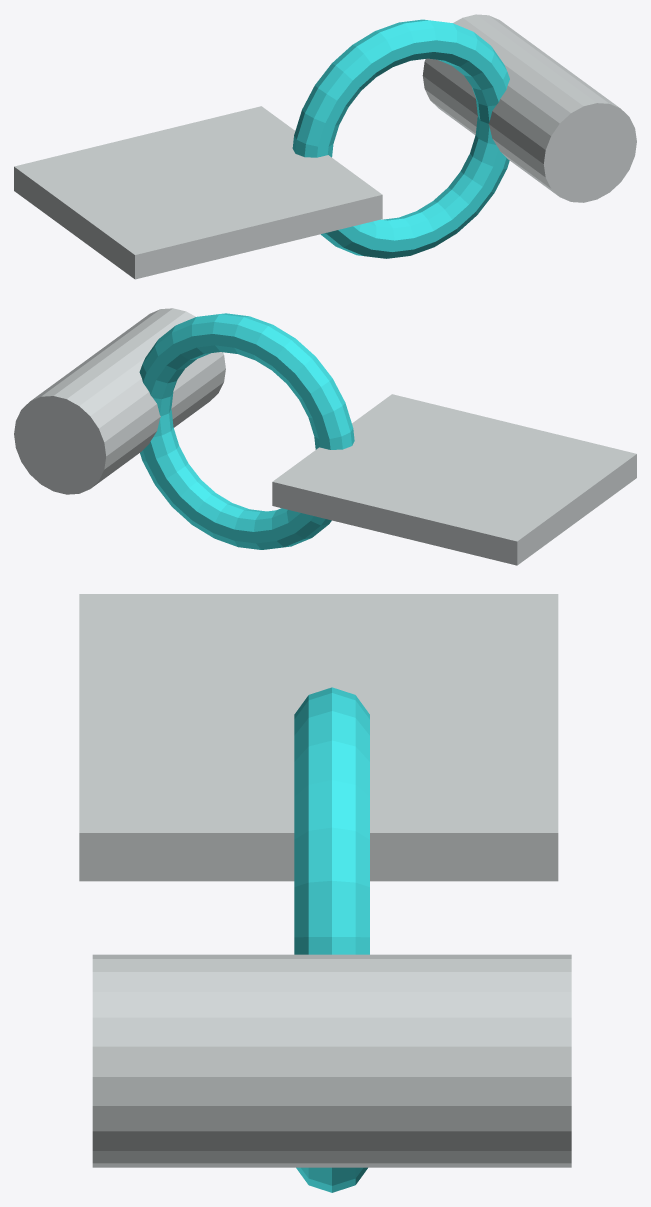
File: filter-set.glb
3 views of the same model, one above another, from view 1: azimuth 30°, elevation 25°; view 2: azimuth 150°, elevation 25°; view 3: azimuth 270°, elevation 25° (orthographic). The views are drawn at different scales.
Parts seen in each view (by area): view 1: world; view 2: world; view 3: world.
Boxes of the visible parts, bbox=[...] form: world: bbox=[14, 14, 636, 279]; world: bbox=[14, 308, 636, 565]; world: bbox=[79, 594, 571, 1192].
Size of the model in its own units: 1.74 by 0.76 by 0.74.
